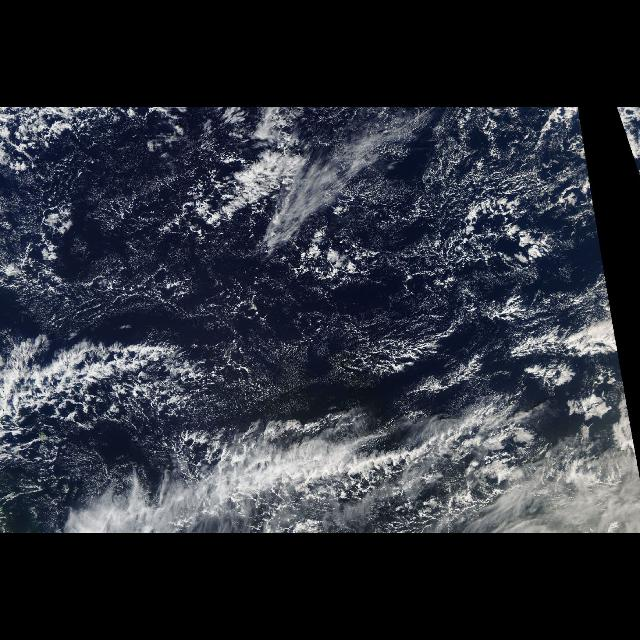Fish: (0, 324, 230, 446)
Gravel: (1, 110, 636, 530), (616, 110, 636, 170)
